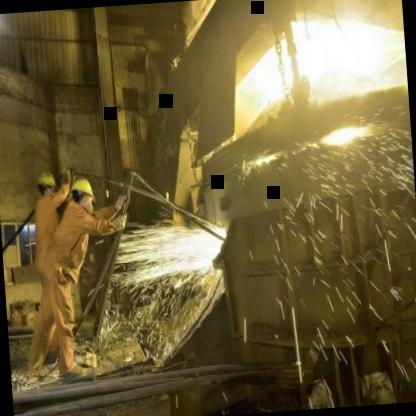helmet: (66, 178, 102, 218), (36, 170, 60, 204)
